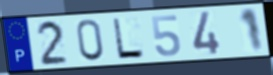0: (76, 18, 106, 62)
1: (238, 7, 266, 55)
2: (36, 19, 69, 66)
4: (191, 9, 222, 58)
5: (150, 13, 183, 58)
L: (110, 16, 147, 60)
